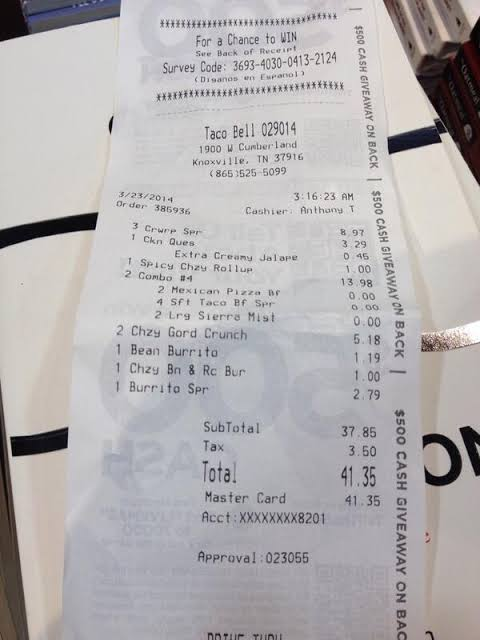Taco Bell: (196, 117, 261, 142)
